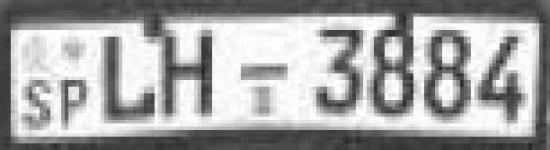-: (236, 59, 293, 85)
3: (310, 23, 368, 121)
4: (475, 30, 530, 126)
8: (421, 23, 475, 126), (369, 22, 420, 123)
H: (160, 27, 218, 123)
L: (97, 34, 158, 126)
P: (59, 74, 94, 133)
S: (16, 77, 56, 133)
